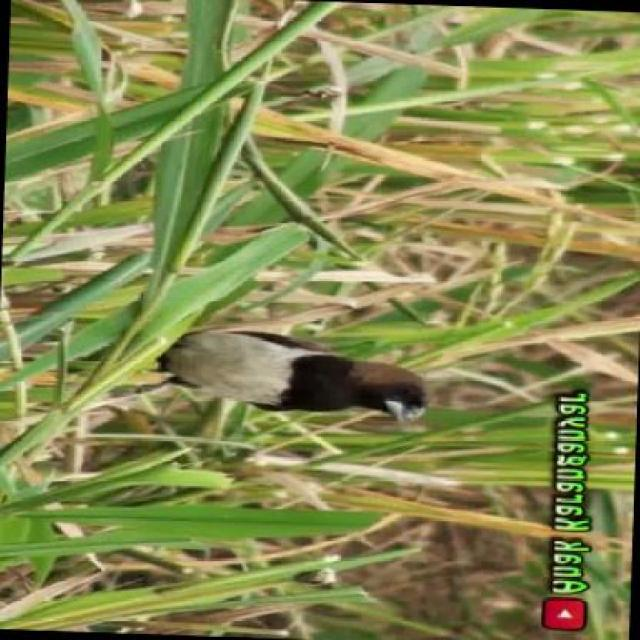Bird: (159, 310, 444, 443)
